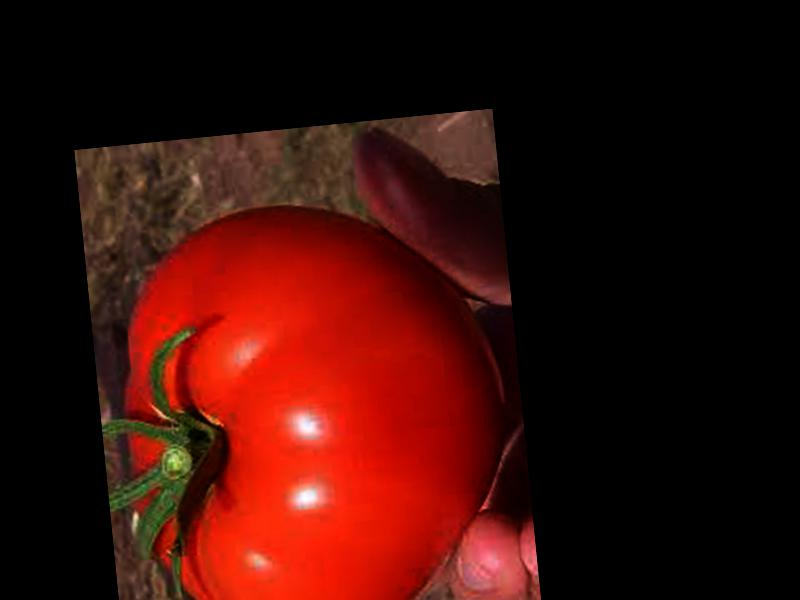Tomato: (108, 192, 521, 600)
